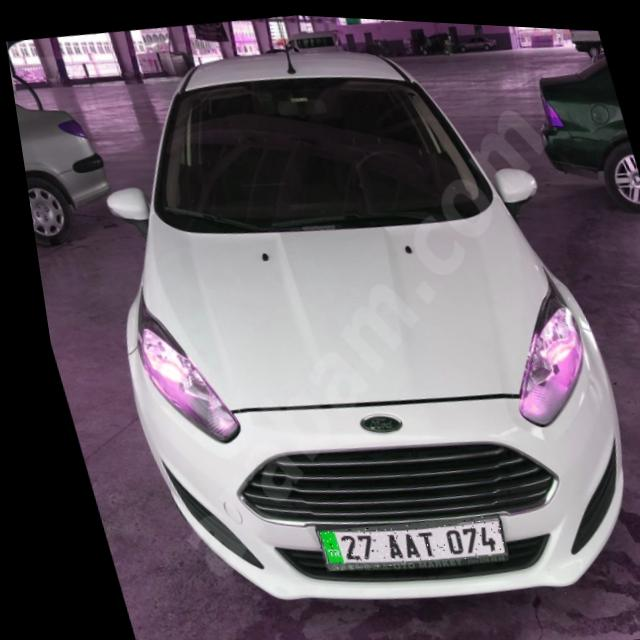license_plate: (297, 503, 496, 577)
